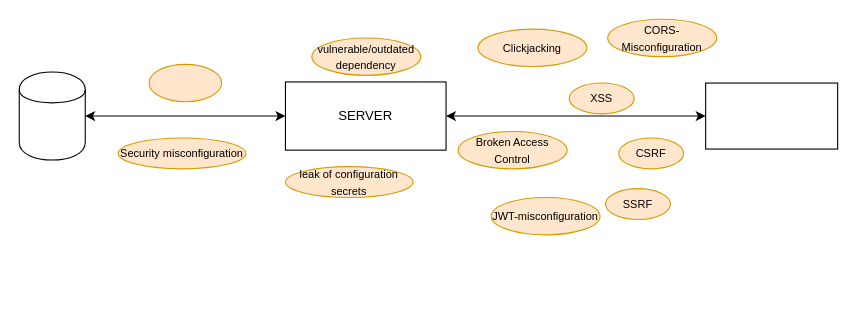
Image size: 857x333. Some labels were removed from this diagram. The shapes that lost their labels are listed below. From the top down, each one's box as (x1, y1, x2, y2) in pixels, then its label:
(148, 63, 222, 102): SQL-Injection
(18, 71, 85, 160): DB
(705, 82, 838, 149): CLIENT
